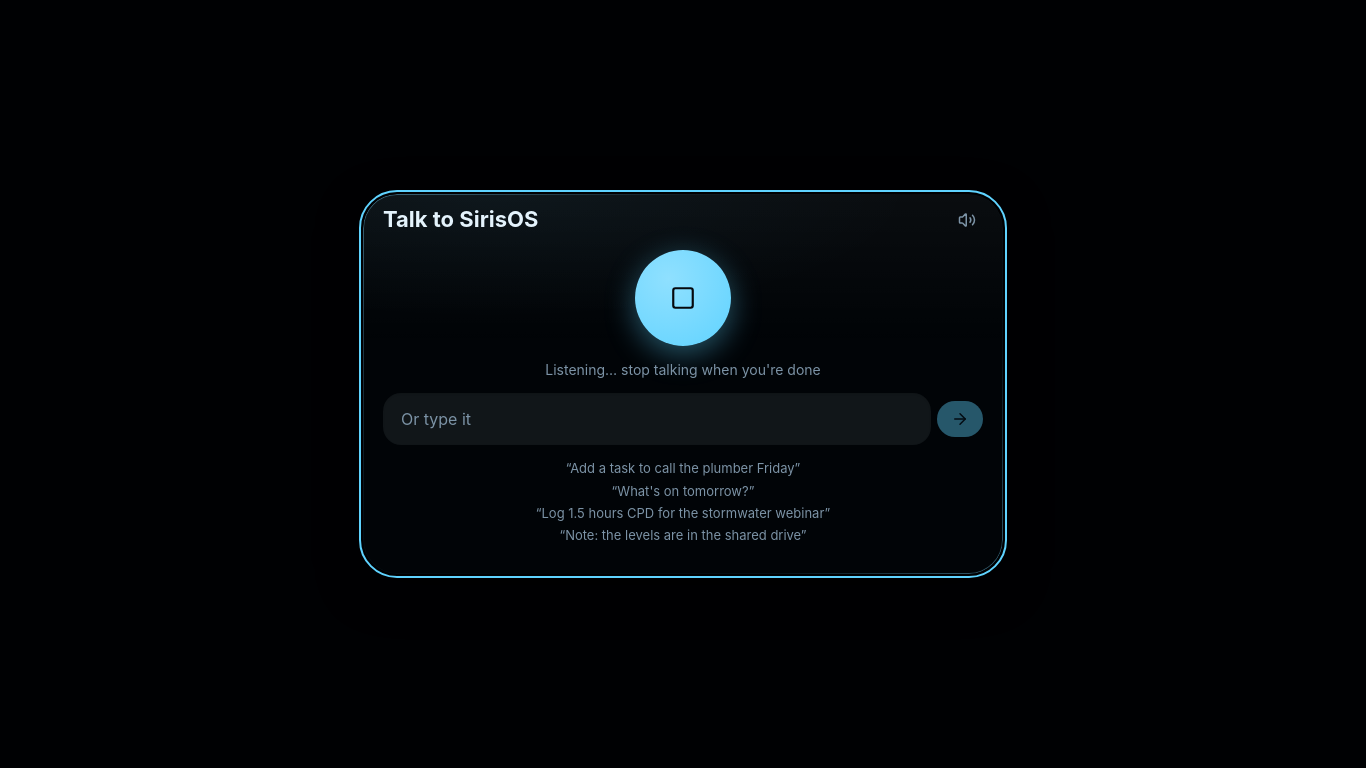
<Talk /> › stays quiet when muted
Click the button named "Don't read replies aloud" at x=967, y=220, box [951,204,983,236]
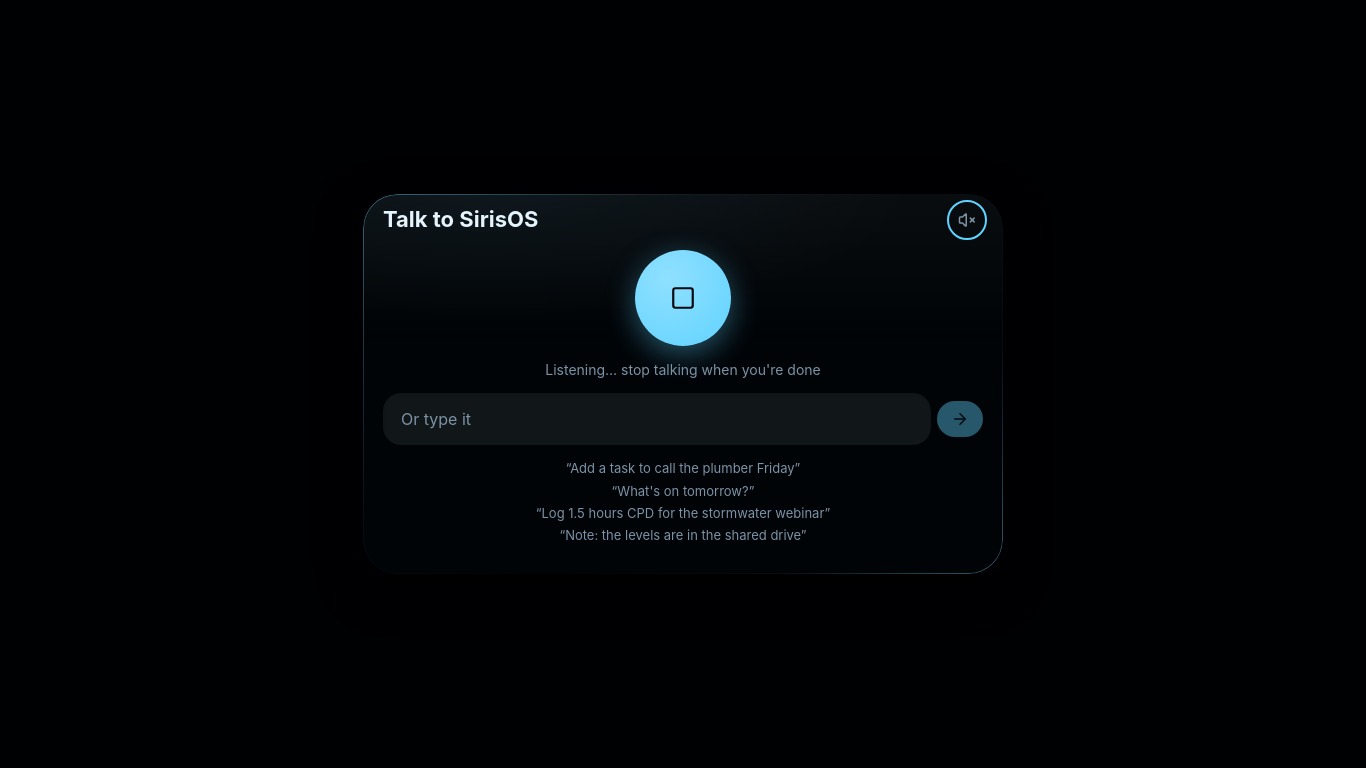
Type "weather?" into the field named "Say it in words" at x=657, y=419, box [383,393,931,445]
Then press Enter
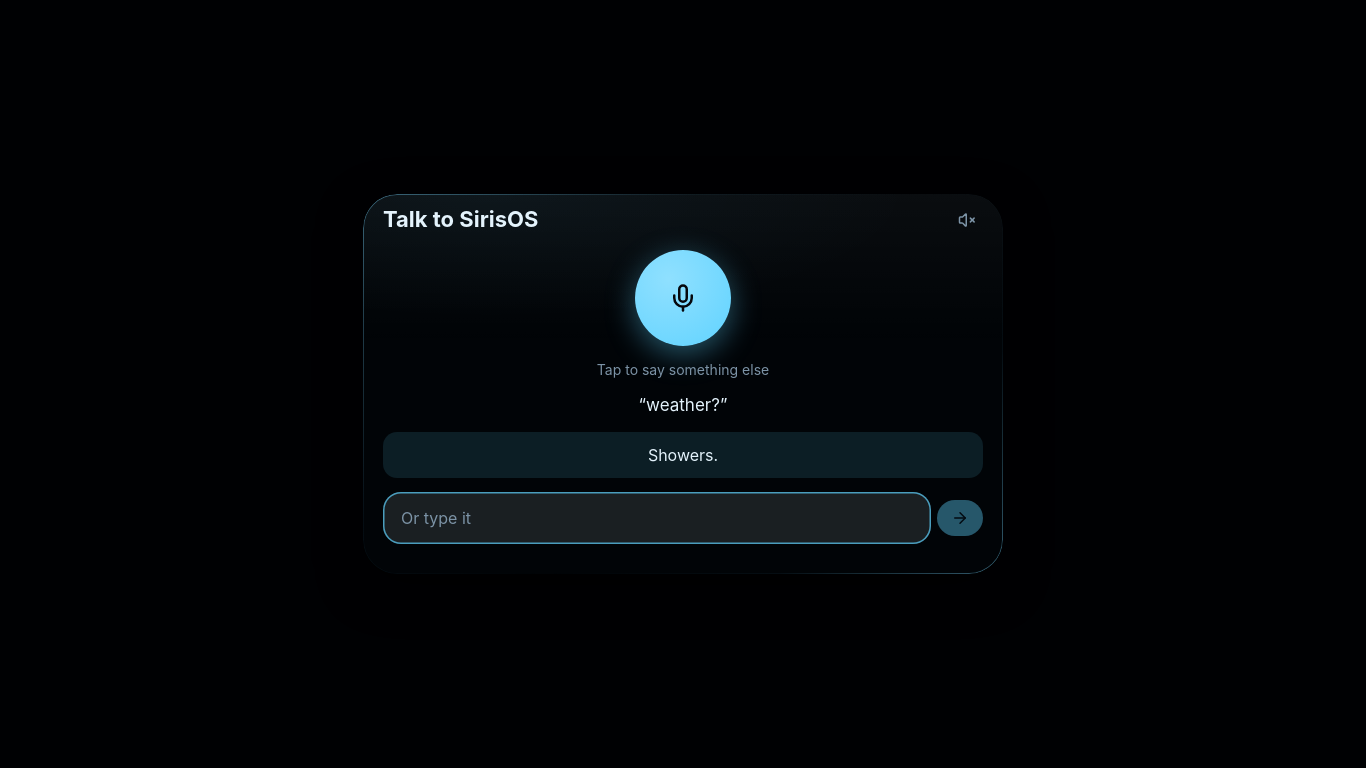
Check: the text "Showers." is shown, box [648,444,718,466]
